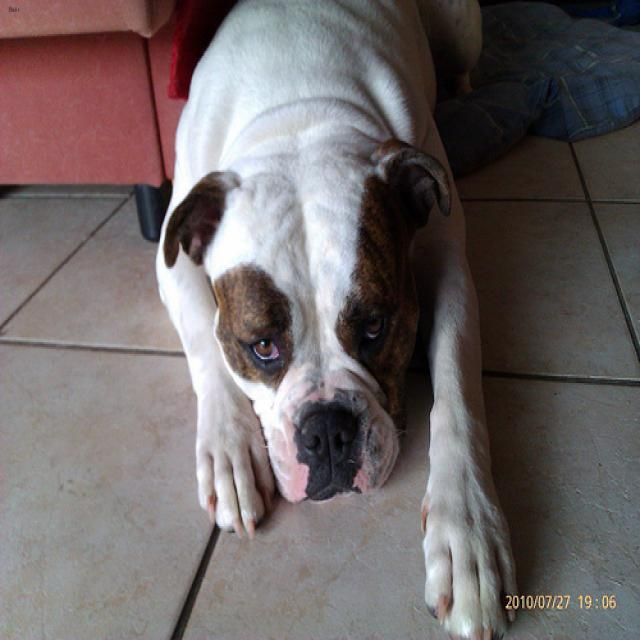dog-american_bulldog: (140, 2, 529, 637)
